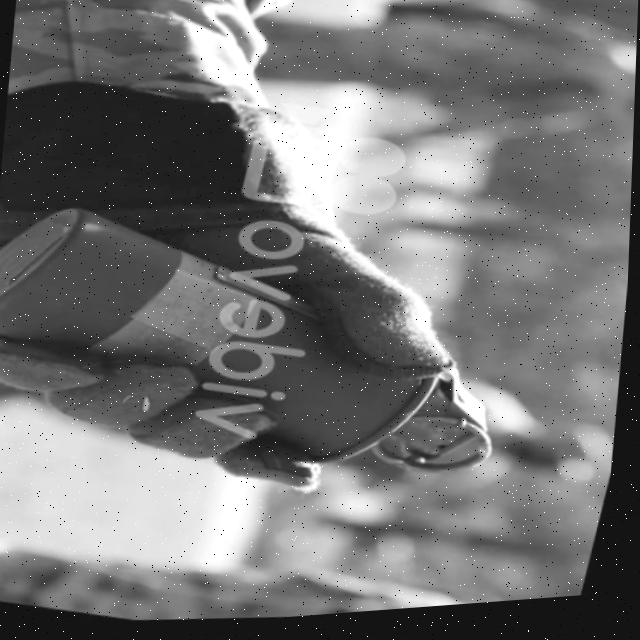grenade: (0, 167, 548, 541)
